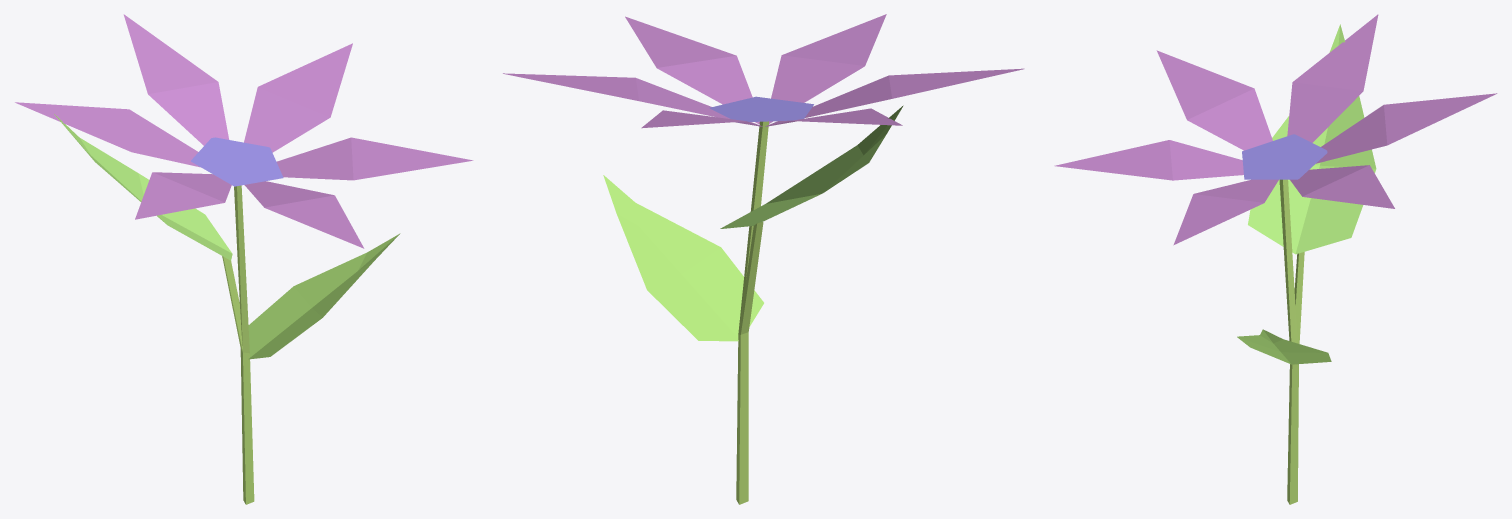
File: Flower_b_TwoS_07.fbx
3 renders of one model, left to right at view 1: azimuth 30°, elevation 25°; view 2: azimuth 150°, elevation 25°; view 3: azimuth 270°, elevation 25°, orthographic. The views are drawn at different scales.
Parts seen in each view (by area): view 1: Flower_b_TwoS_07; view 2: Flower_b_TwoS_07; view 3: Flower_b_TwoS_07.
Boxes of the visible parts, <box> form: Flower_b_TwoS_07: <box>15,14,473,504</box>; Flower_b_TwoS_07: <box>503,14,1024,504</box>; Flower_b_TwoS_07: <box>1054,14,1497,504</box>.
Bounding box in the file's own units: 0.3464 × 0.3884 × 0.3898.
